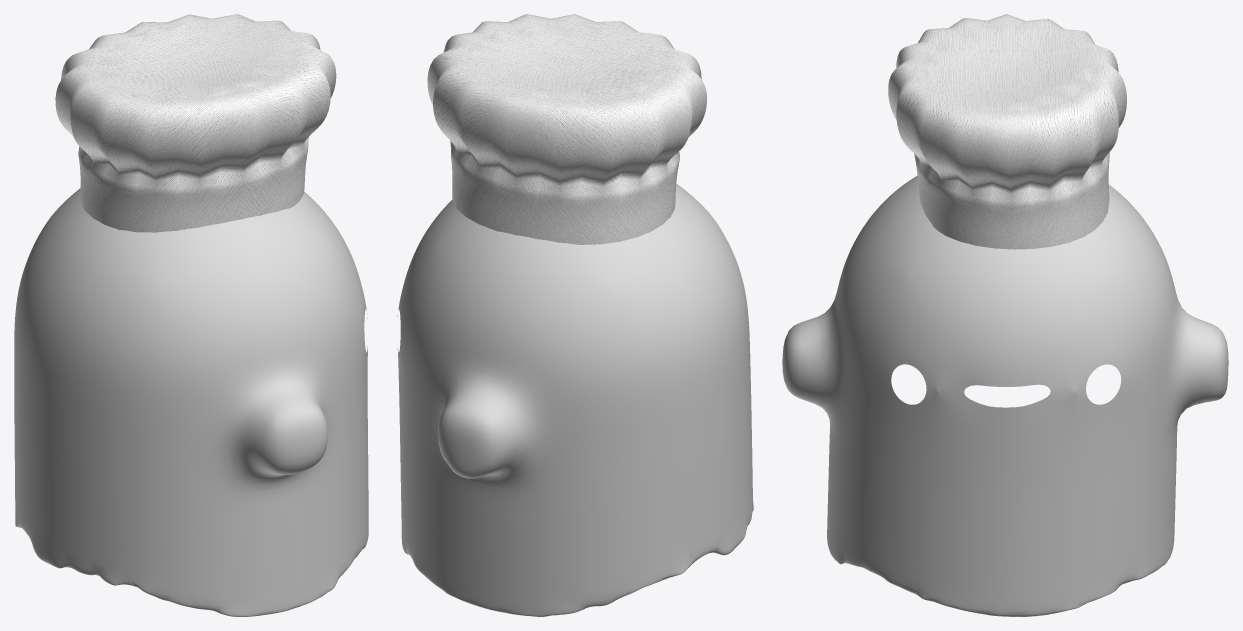
File: ghostbodychef.glb
3 renders of one model, left to right at view 1: azimuth 30°, elevation 25°; view 2: azimuth 150°, elevation 25°; view 3: azimuth 270°, elevation 25°, orthographic.
Visible parts, largest first — view 1: Cube, chefhat_1; view 2: Cube, chefhat_1; view 3: Cube, chefhat_1.
Part boxes in pixels (x1=…): Cube: x1=14, y1=188, x2=368, y2=616; chefhat_1: x1=55, y1=14, x2=336, y2=232; Cube: x1=397, y1=184, x2=753, y2=616; chefhat_1: x1=427, y1=14, x2=706, y2=244; Cube: x1=782, y1=175, x2=1228, y2=616; chefhat_1: x1=888, y1=14, x2=1126, y2=249.
Size of the model in its own units: 1.71 by 2.61 by 2.18.
Materials: 1 (1 with a texture image).
